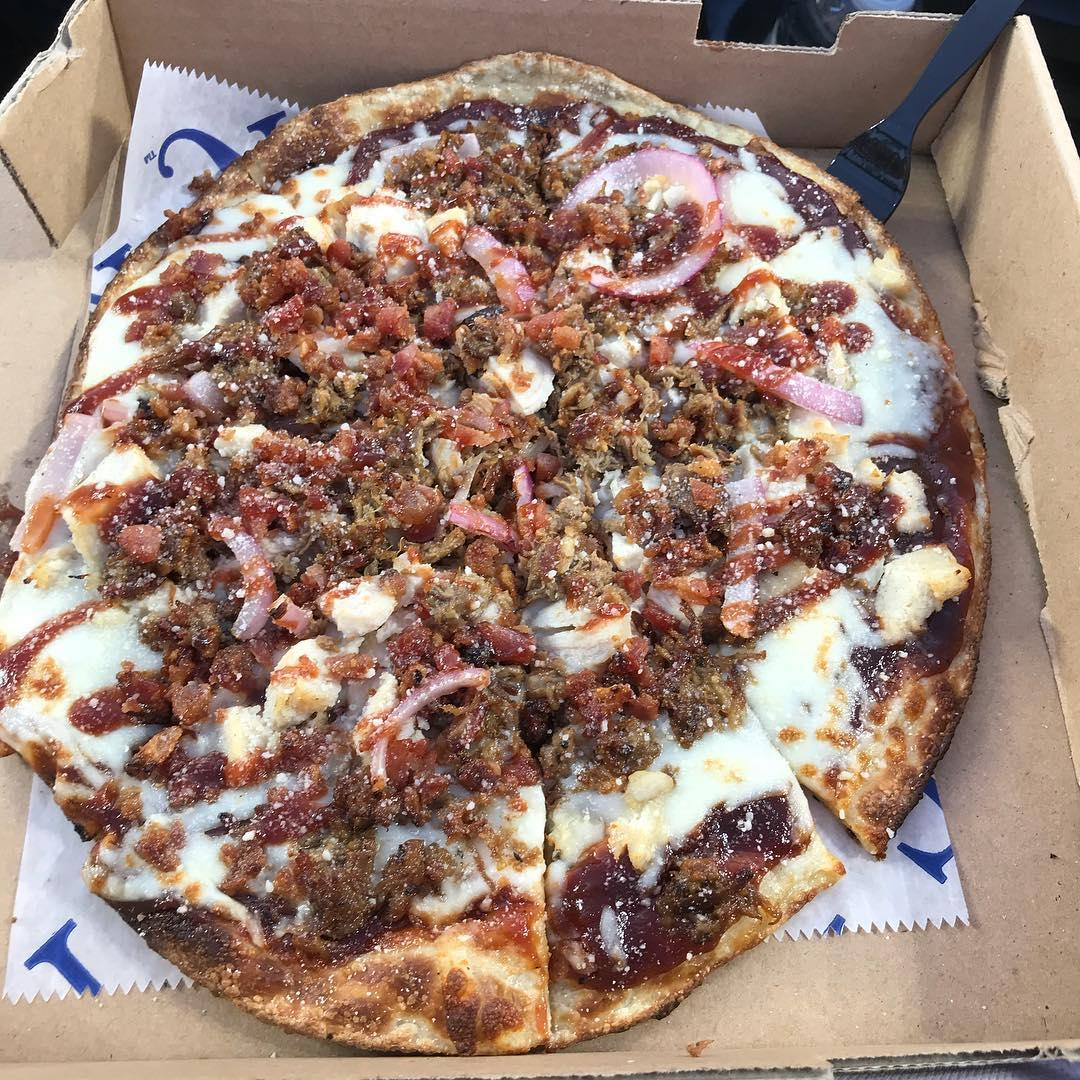Bacon: (281, 269, 438, 397)
Onion: (213, 529, 512, 750), (561, 141, 734, 292), (677, 331, 880, 421), (439, 453, 544, 542), (453, 231, 534, 321)
Pizza: (23, 55, 994, 1045)
